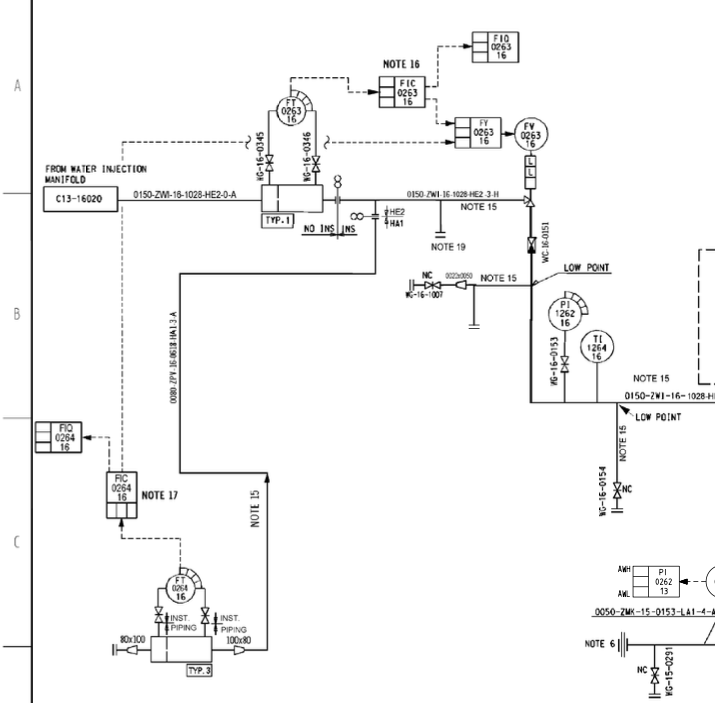Instrument: (579, 328, 618, 366), (546, 295, 583, 332), (514, 115, 551, 152), (273, 94, 311, 129), (163, 571, 199, 607)
Instrument-square: (373, 71, 432, 110), (102, 464, 141, 522), (629, 562, 683, 602), (33, 417, 85, 457), (450, 114, 504, 151), (472, 27, 523, 66)
